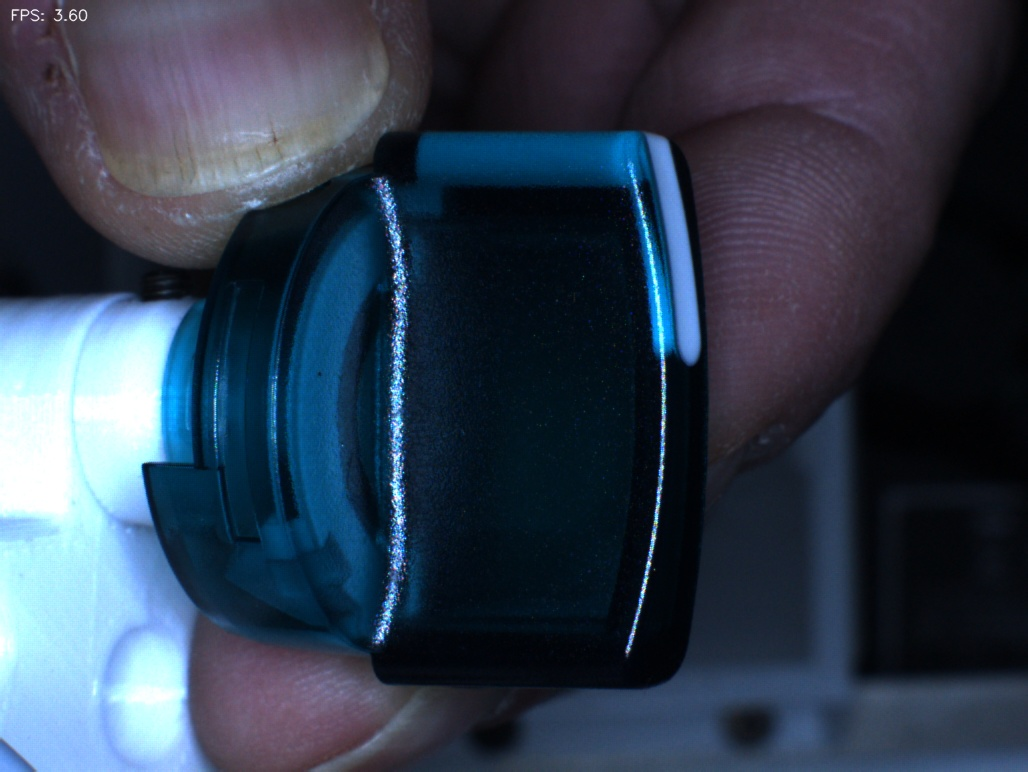PointNoir: (279, 334, 353, 416)
